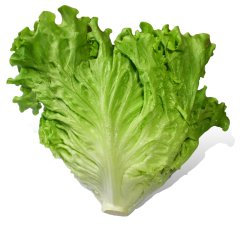Lettuce: (11, 3, 232, 219)
